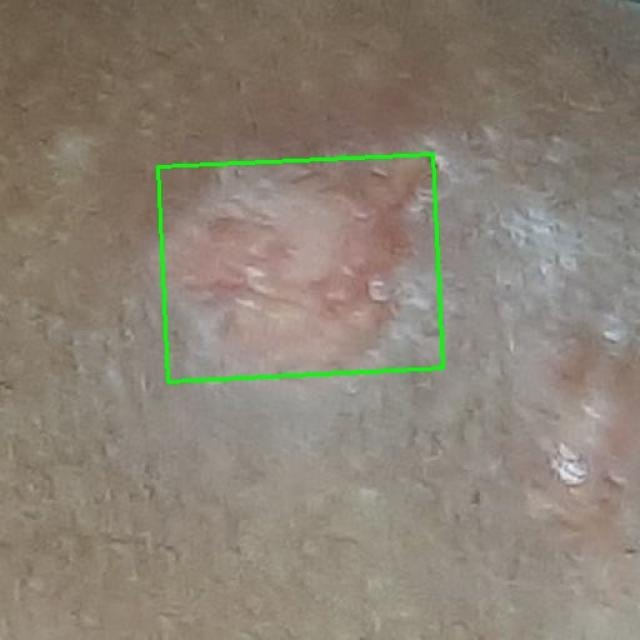Eczema: (158, 154, 443, 381)
